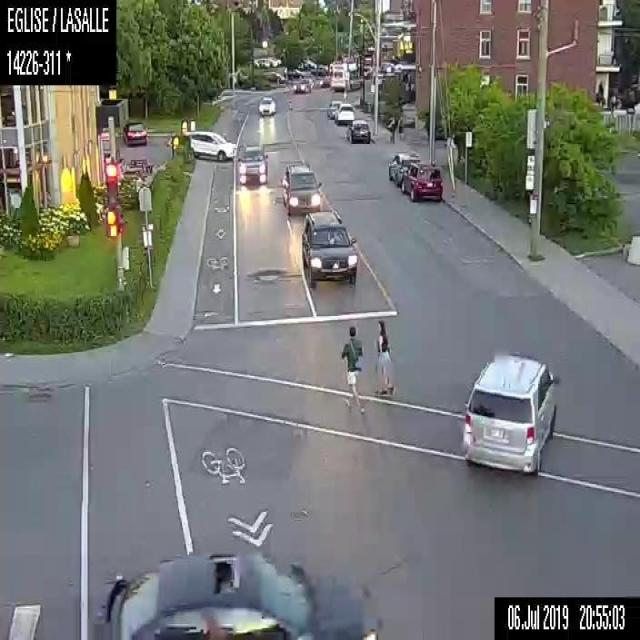bus: (328, 57, 362, 90)
pedestrian: (338, 324, 363, 409), (373, 317, 394, 395), (385, 115, 397, 142), (398, 114, 403, 139)
vehicle: (104, 552, 378, 639), (463, 348, 560, 476), (302, 210, 358, 290), (282, 161, 322, 213), (184, 128, 237, 163), (401, 162, 443, 203), (387, 150, 421, 187), (237, 144, 268, 183), (122, 119, 148, 145), (344, 119, 370, 143), (334, 101, 354, 124), (258, 94, 276, 114), (326, 99, 342, 119), (283, 66, 304, 80), (290, 78, 308, 94), (347, 60, 348, 61)
